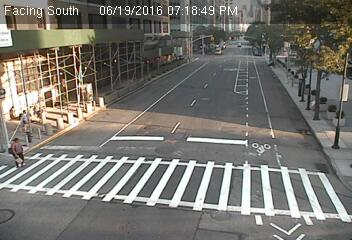neg: (256, 61, 276, 88), (160, 108, 179, 134), (81, 144, 100, 170), (107, 182, 126, 207), (56, 188, 75, 213), (215, 201, 233, 225), (102, 105, 120, 128), (175, 187, 193, 210), (207, 127, 224, 150), (289, 90, 304, 110), (298, 41, 313, 61), (253, 139, 267, 159), (279, 189, 293, 208), (104, 61, 117, 78), (219, 39, 232, 56), (189, 75, 202, 92), (331, 100, 342, 115), (310, 154, 320, 168), (149, 45, 159, 58)
pos: (7, 138, 31, 170), (15, 108, 35, 134)
